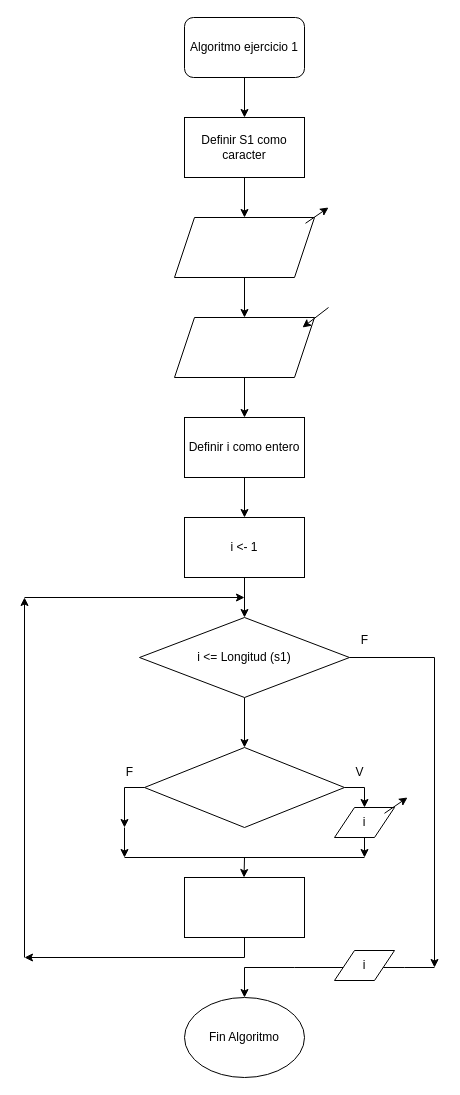
Some shapes in this 460 by 1095 pixel diagram are drawn without their labels. Each missing label, with the centre of its shape:
"i <- i + 1" belongs at point (244, 907).
"Ingrese una cadena" belongs at point (244, 247).
"S1" belongs at point (244, 347).
"SubCadena (s1..." belongs at point (244, 787).
